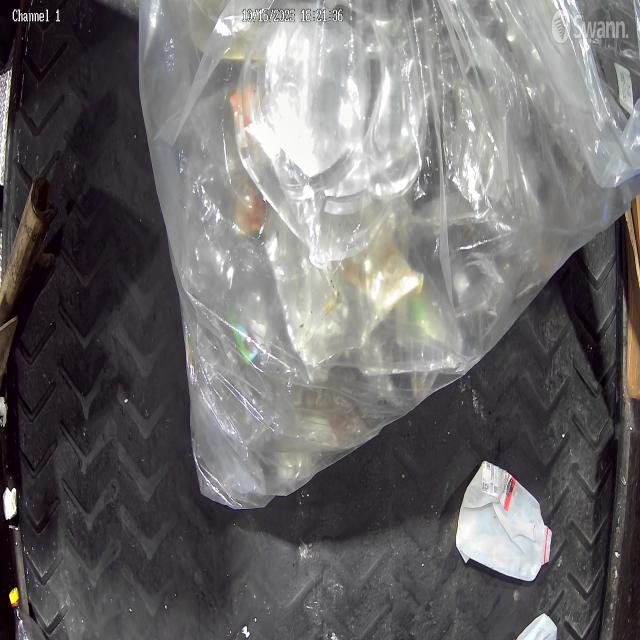milk_jug: (456, 462, 552, 581)
plastic_bottle: (9, 585, 44, 640)
